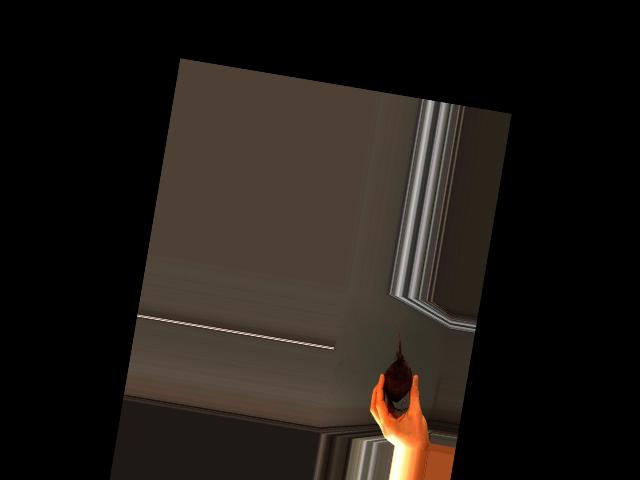beet: (380, 320, 422, 411)
